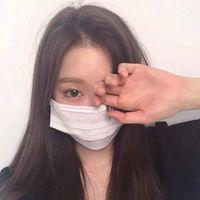OK: (50, 72, 126, 148)
